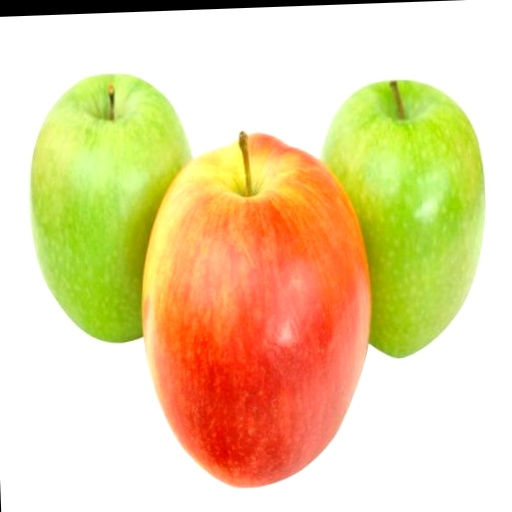fruit: (143, 134, 369, 486), (321, 81, 484, 356), (29, 75, 189, 341)
